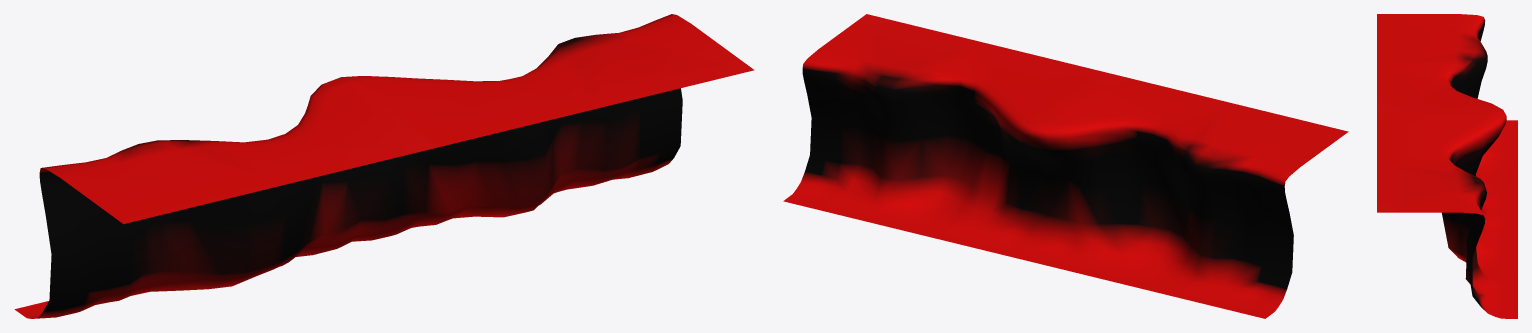
File: GroundCliff02B 1M Background.fbx
3 views of the same model, side by side, from view 1: azimuth 30°, elevation 25°; view 2: azimuth 150°, elevation 25°; view 3: azimuth 270°, elevation 25° (orthographic). The views are drawn at different scales.
Visible parts, largest first — view 1: GroundCliff02B 1M Background; view 2: GroundCliff02B 1M Background; view 3: GroundCliff02B 1M Background.
Boxes of the visible parts, left/top/right/bottom form: GroundCliff02B 1M Background: left=14, top=14, right=754, bottom=318; GroundCliff02B 1M Background: left=783, top=14, right=1348, bottom=318; GroundCliff02B 1M Background: left=1377, top=14, right=1517, bottom=318.
Bounding box in the file's own units: 4 × 1 × 1.2.
